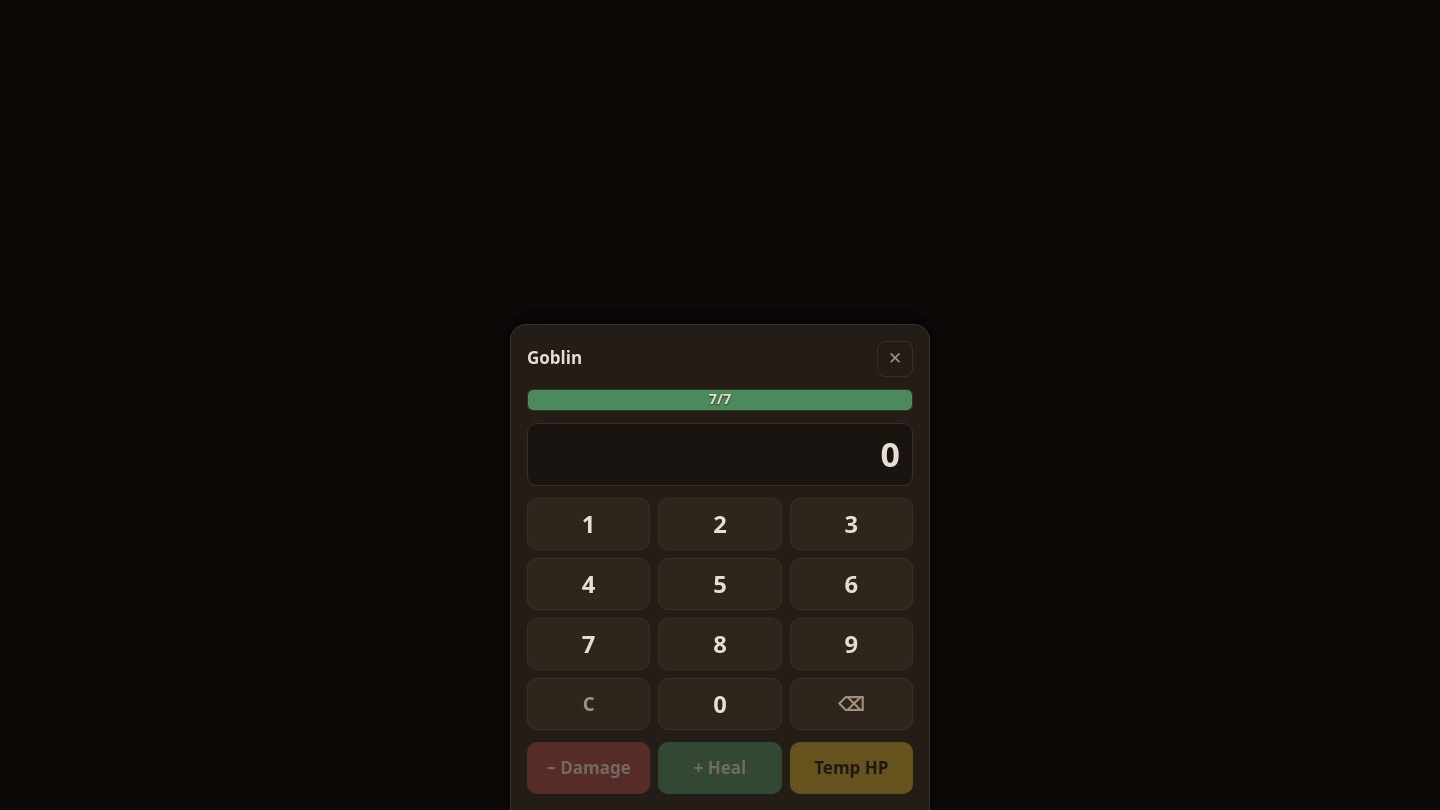
HpSheet › deletes the last digit
The width and height of the screenshot is (1440, 810).
Click the button "1": coordinates (589, 524) [527,498,650,550]
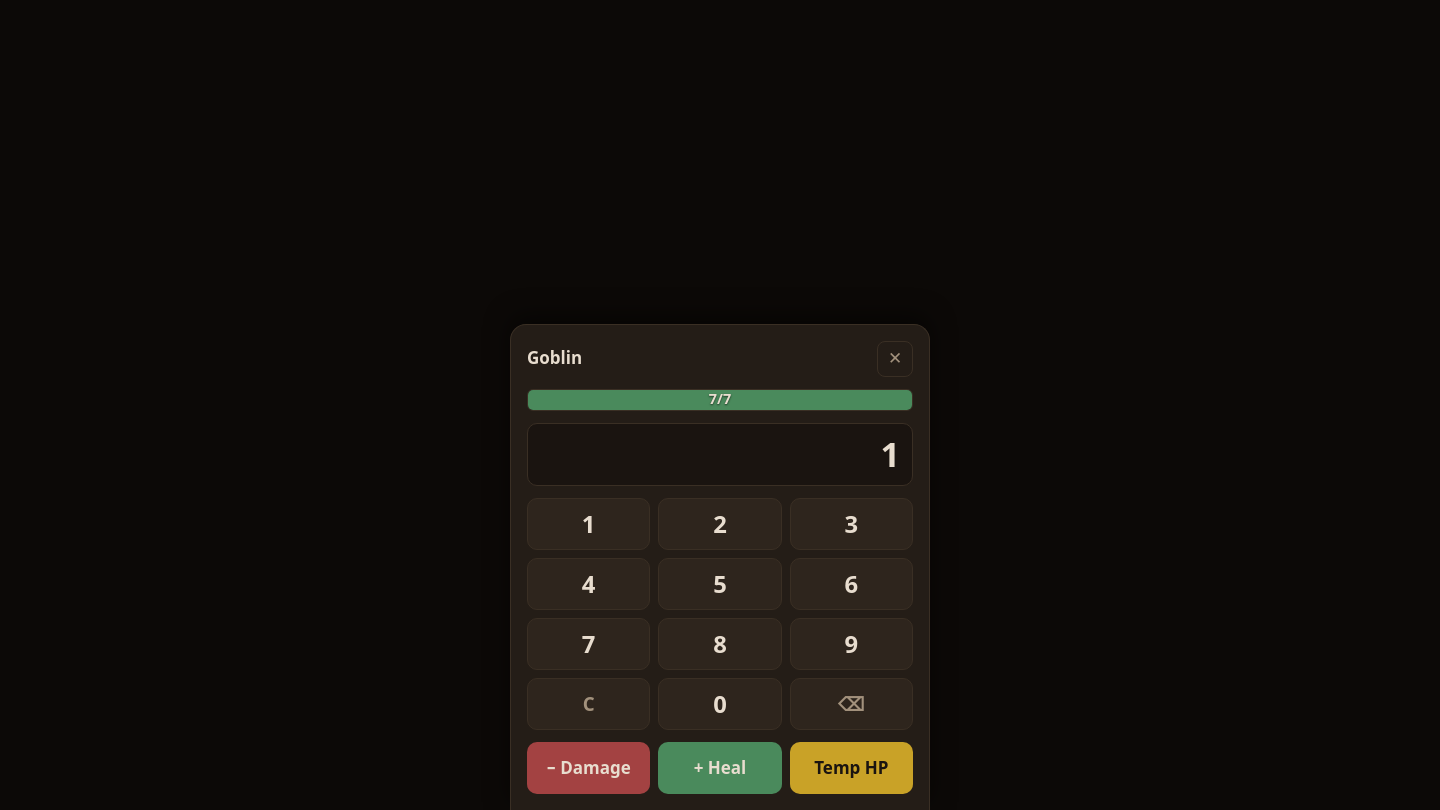
Click the button "2": coordinates (720, 524) [658,498,782,550]
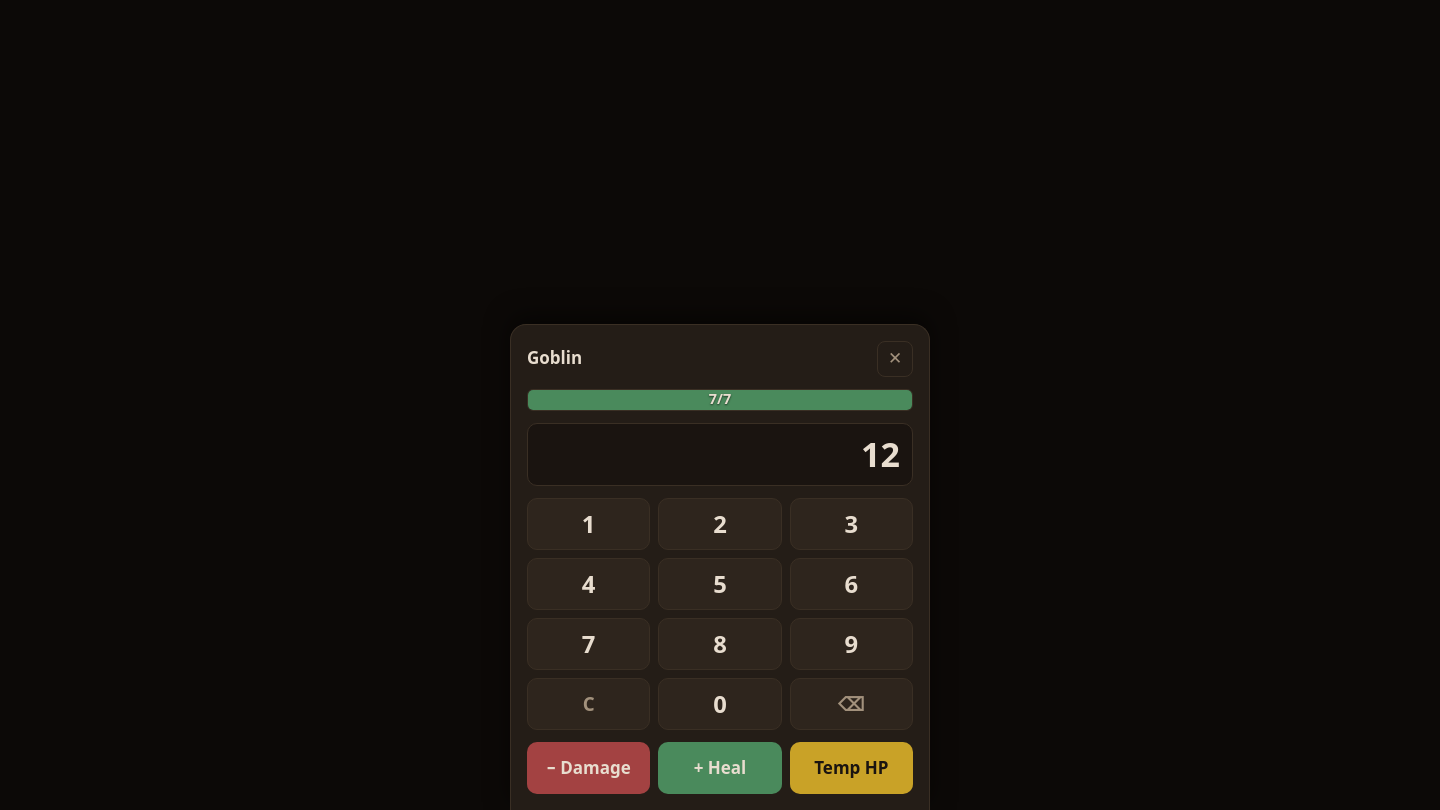
Click the button named "delete digit": coordinates (851, 704) [790,678,913,730]
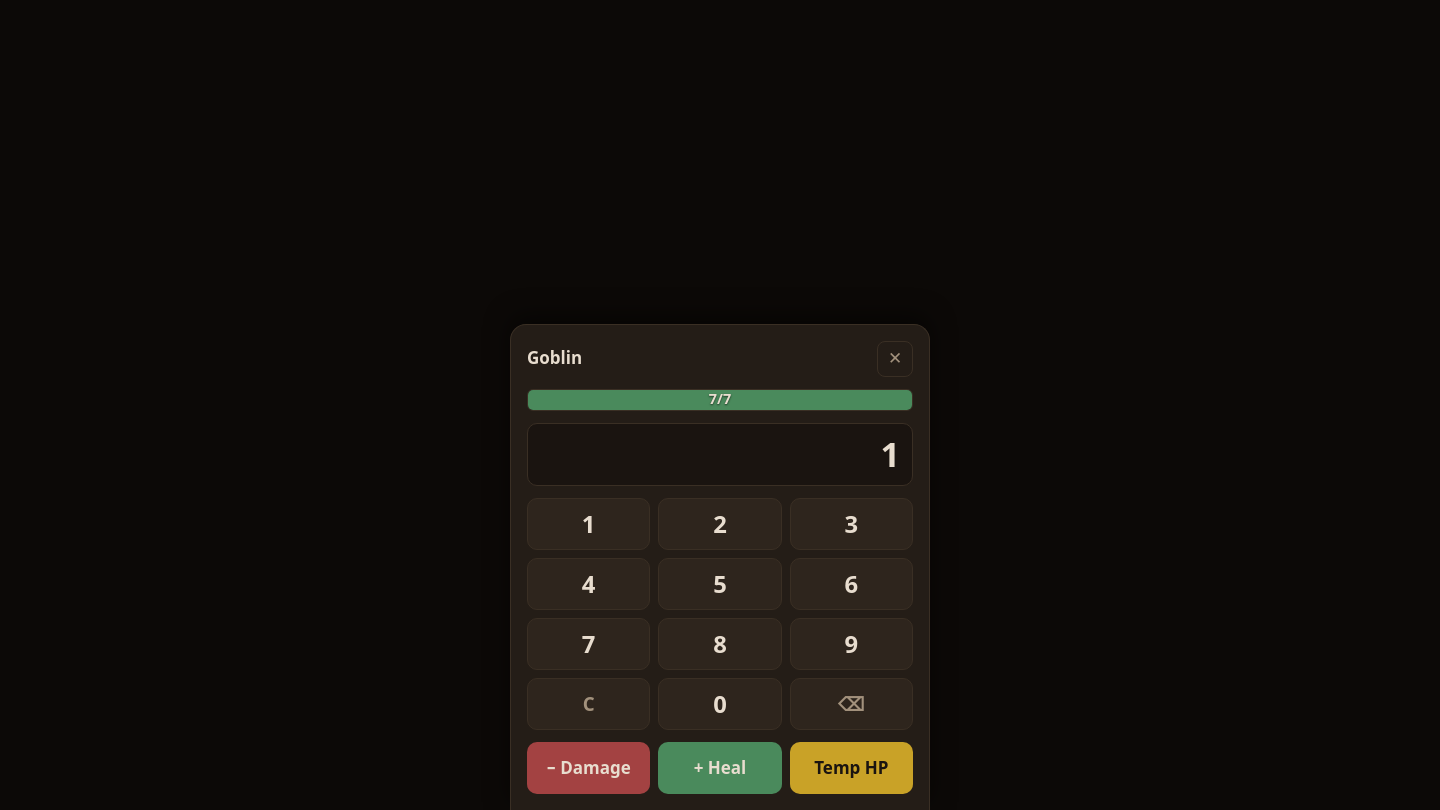
Now the text named "Amount" reads "1", box [880,431,900,477]
